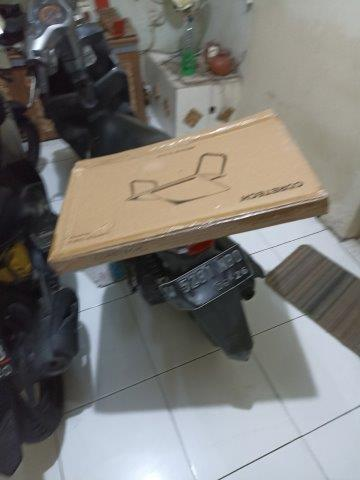kardus: (52, 112, 328, 272)
